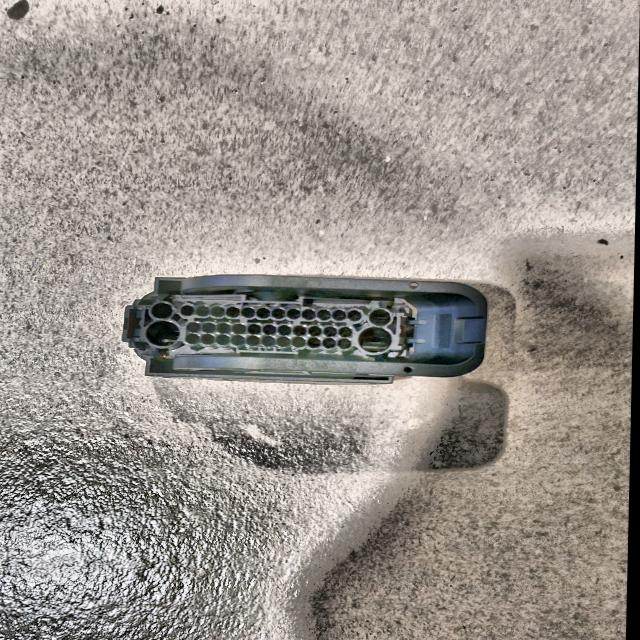P38: (124, 275, 489, 384)
